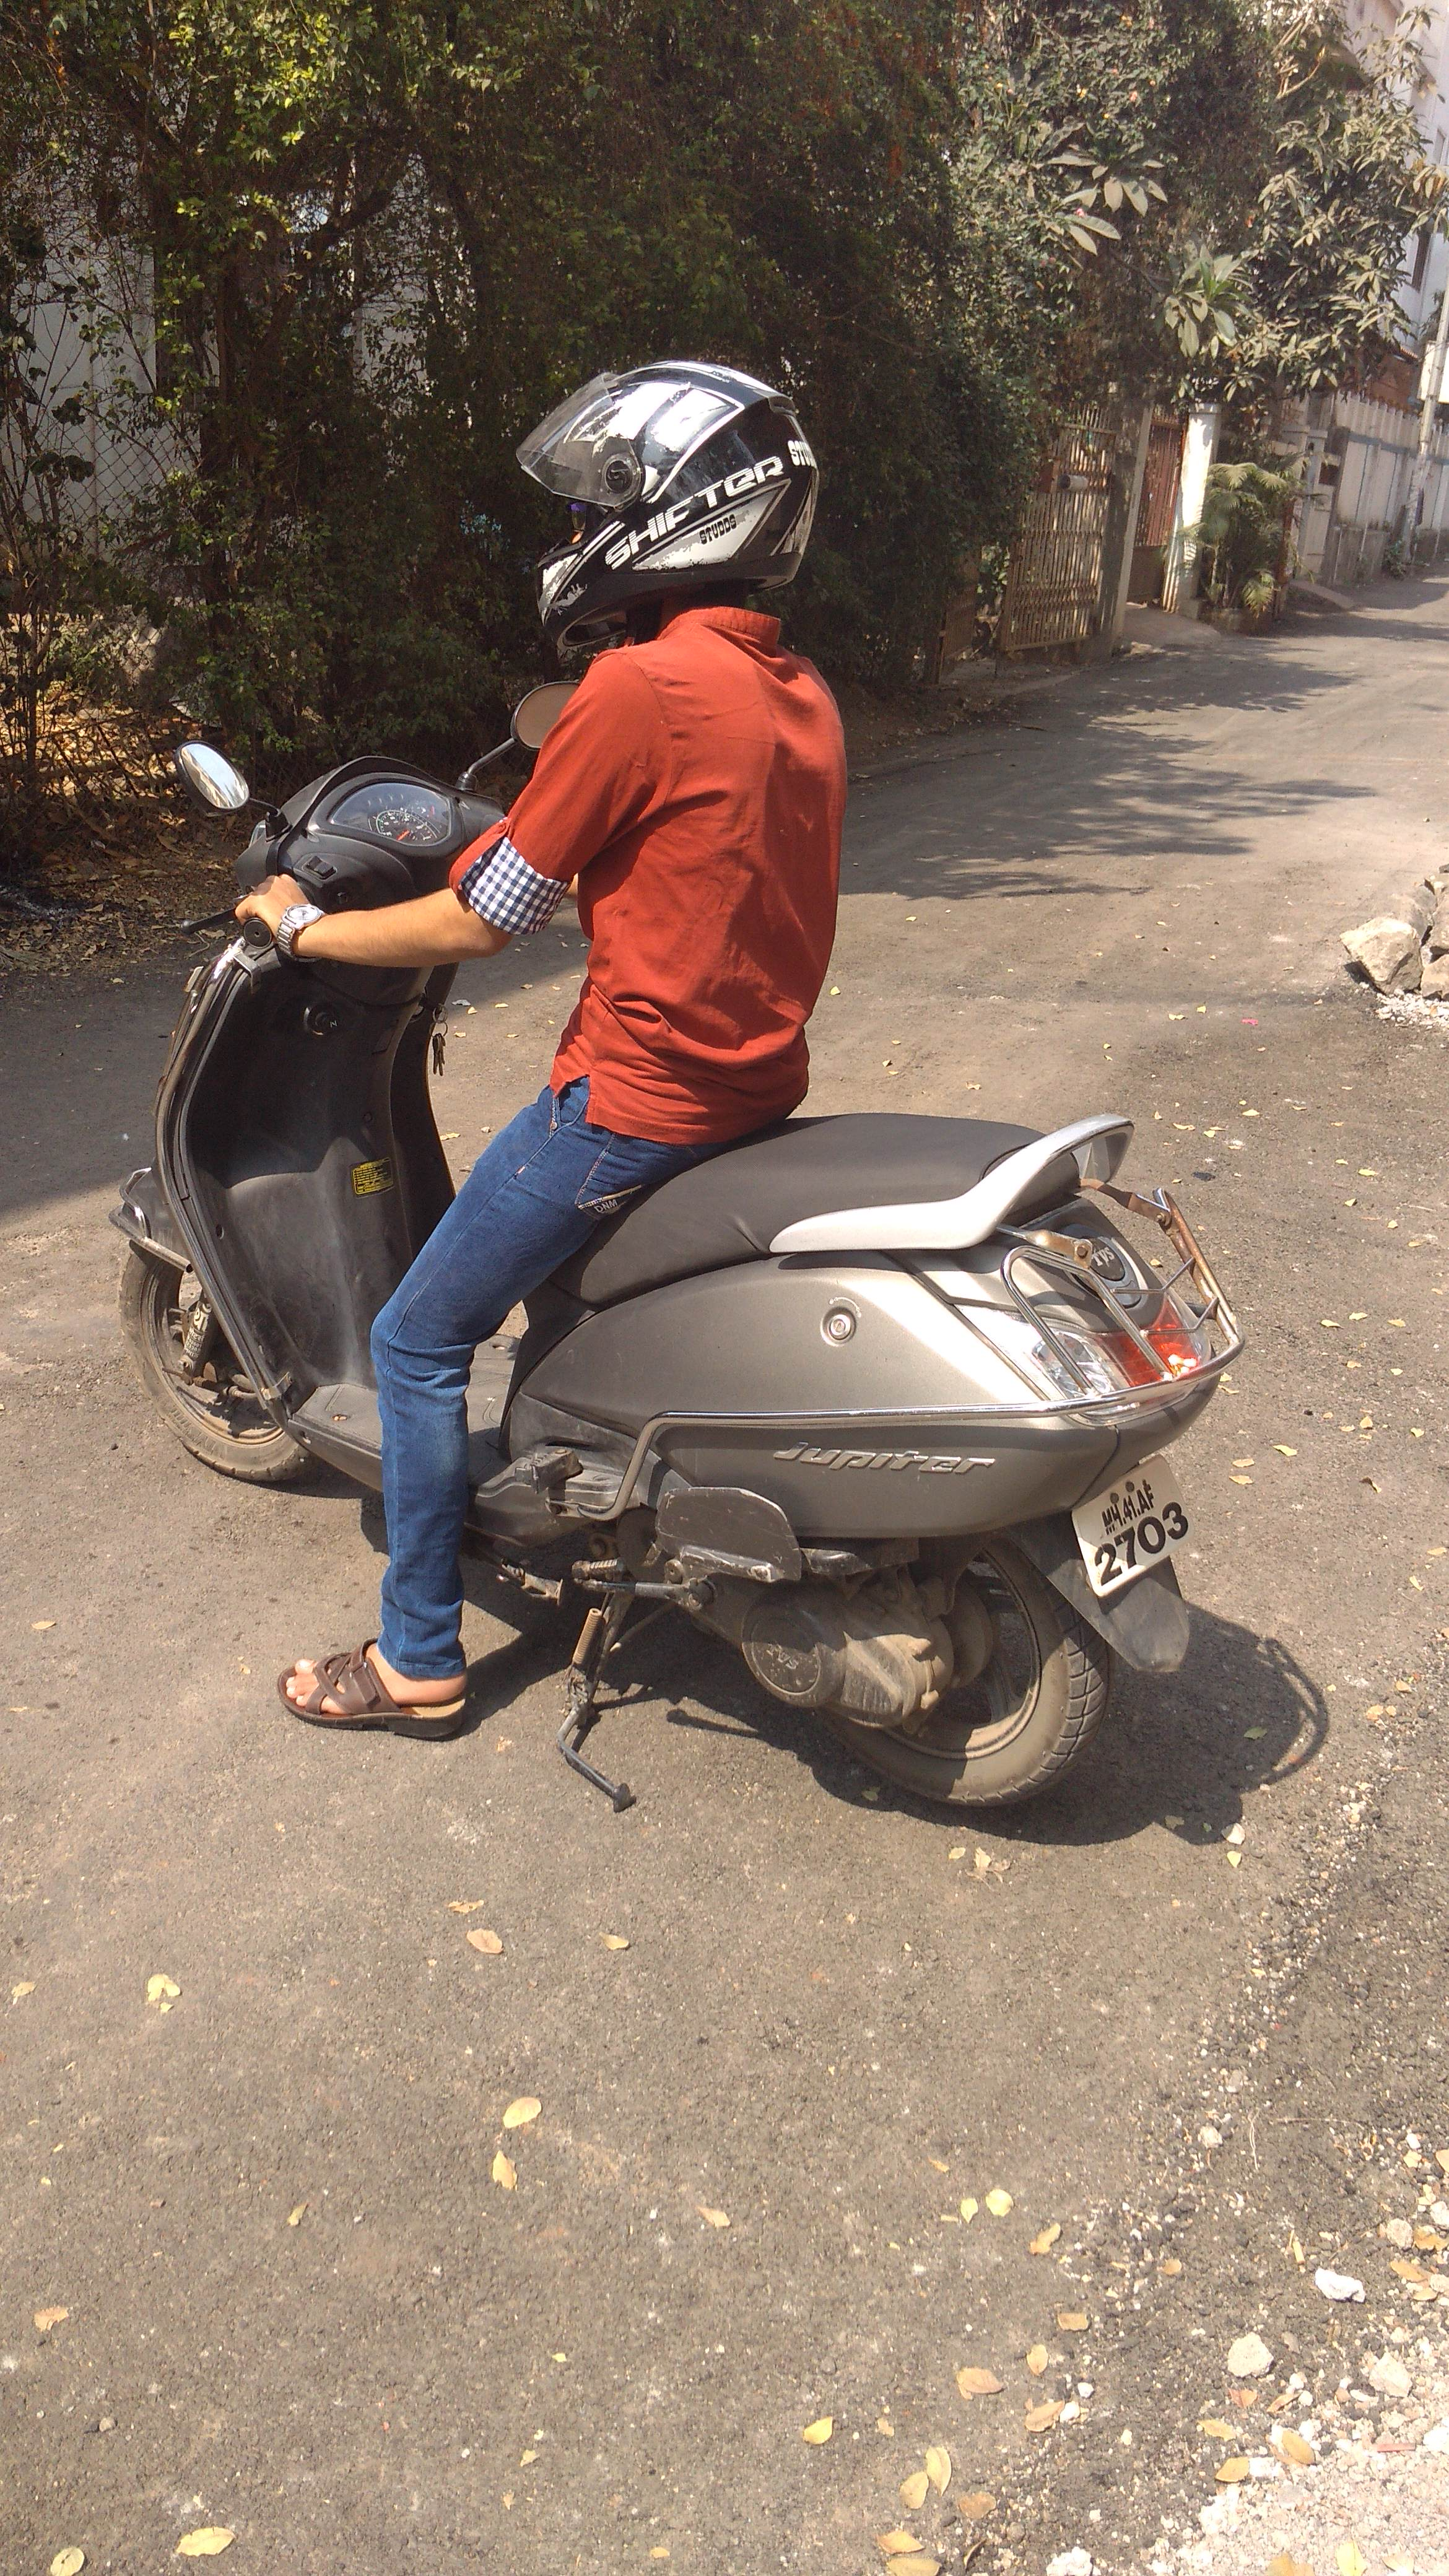helmet: (395, 331, 934, 1276)
